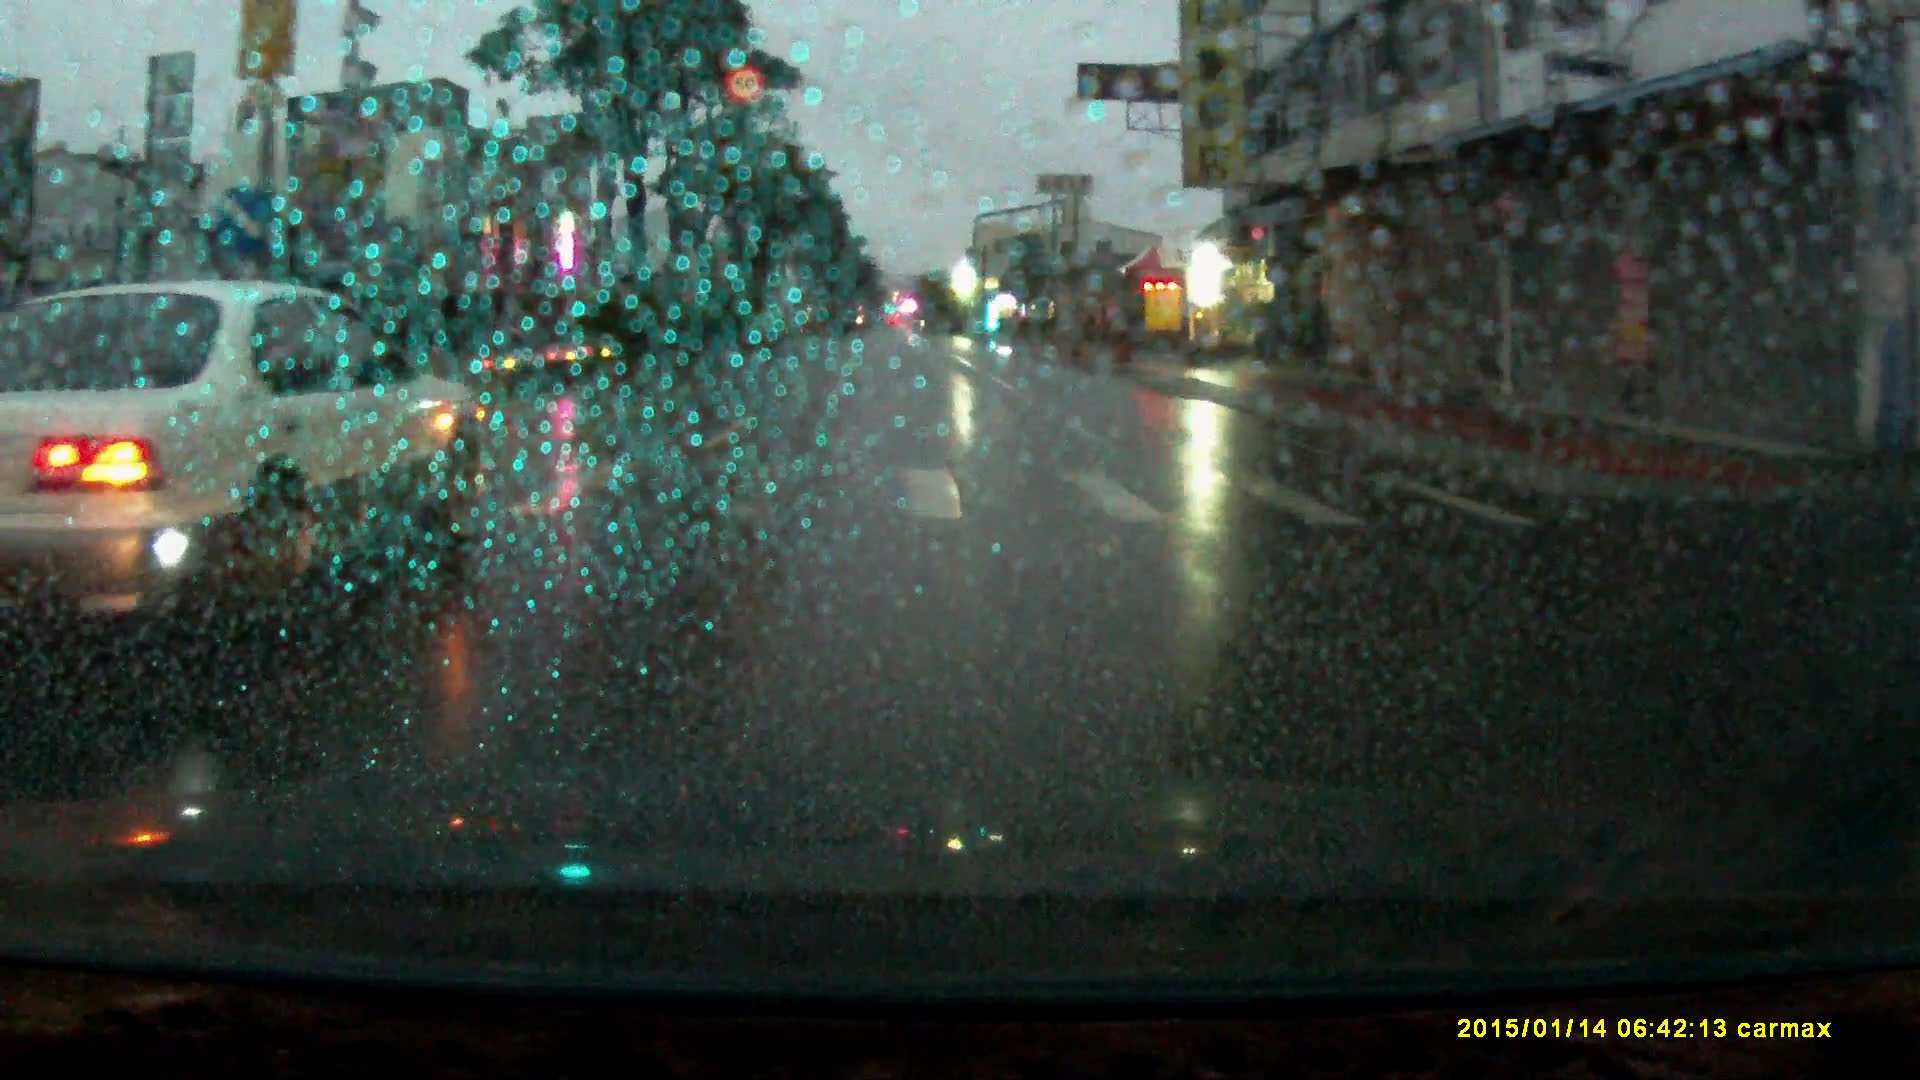vehicle: (1, 285, 497, 640)
